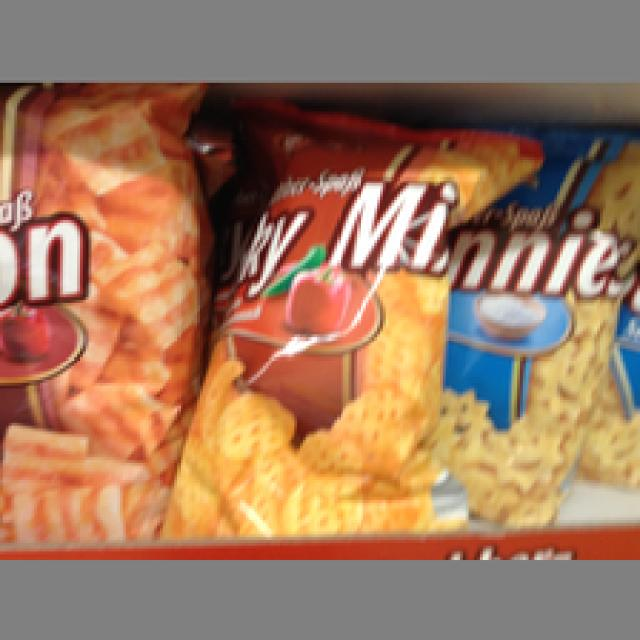groceries: (177, 97, 472, 529), (0, 80, 200, 540), (437, 126, 637, 520)
